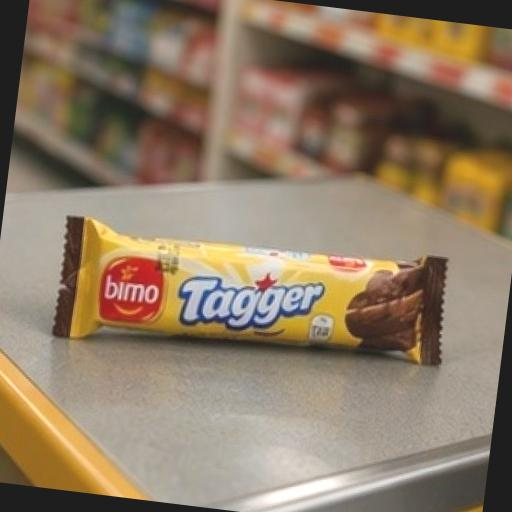tagger: (19, 174, 500, 446)
